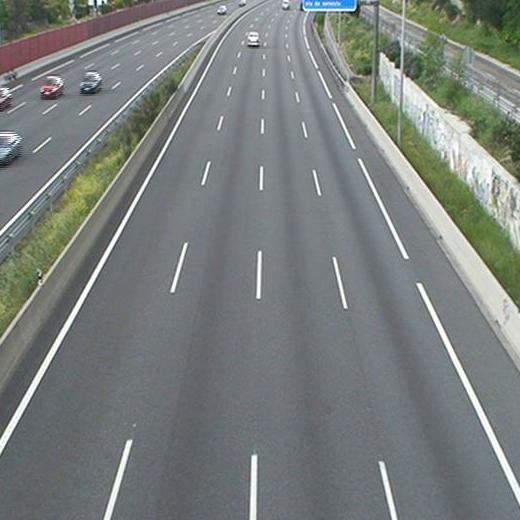car: (246, 30, 260, 46)
